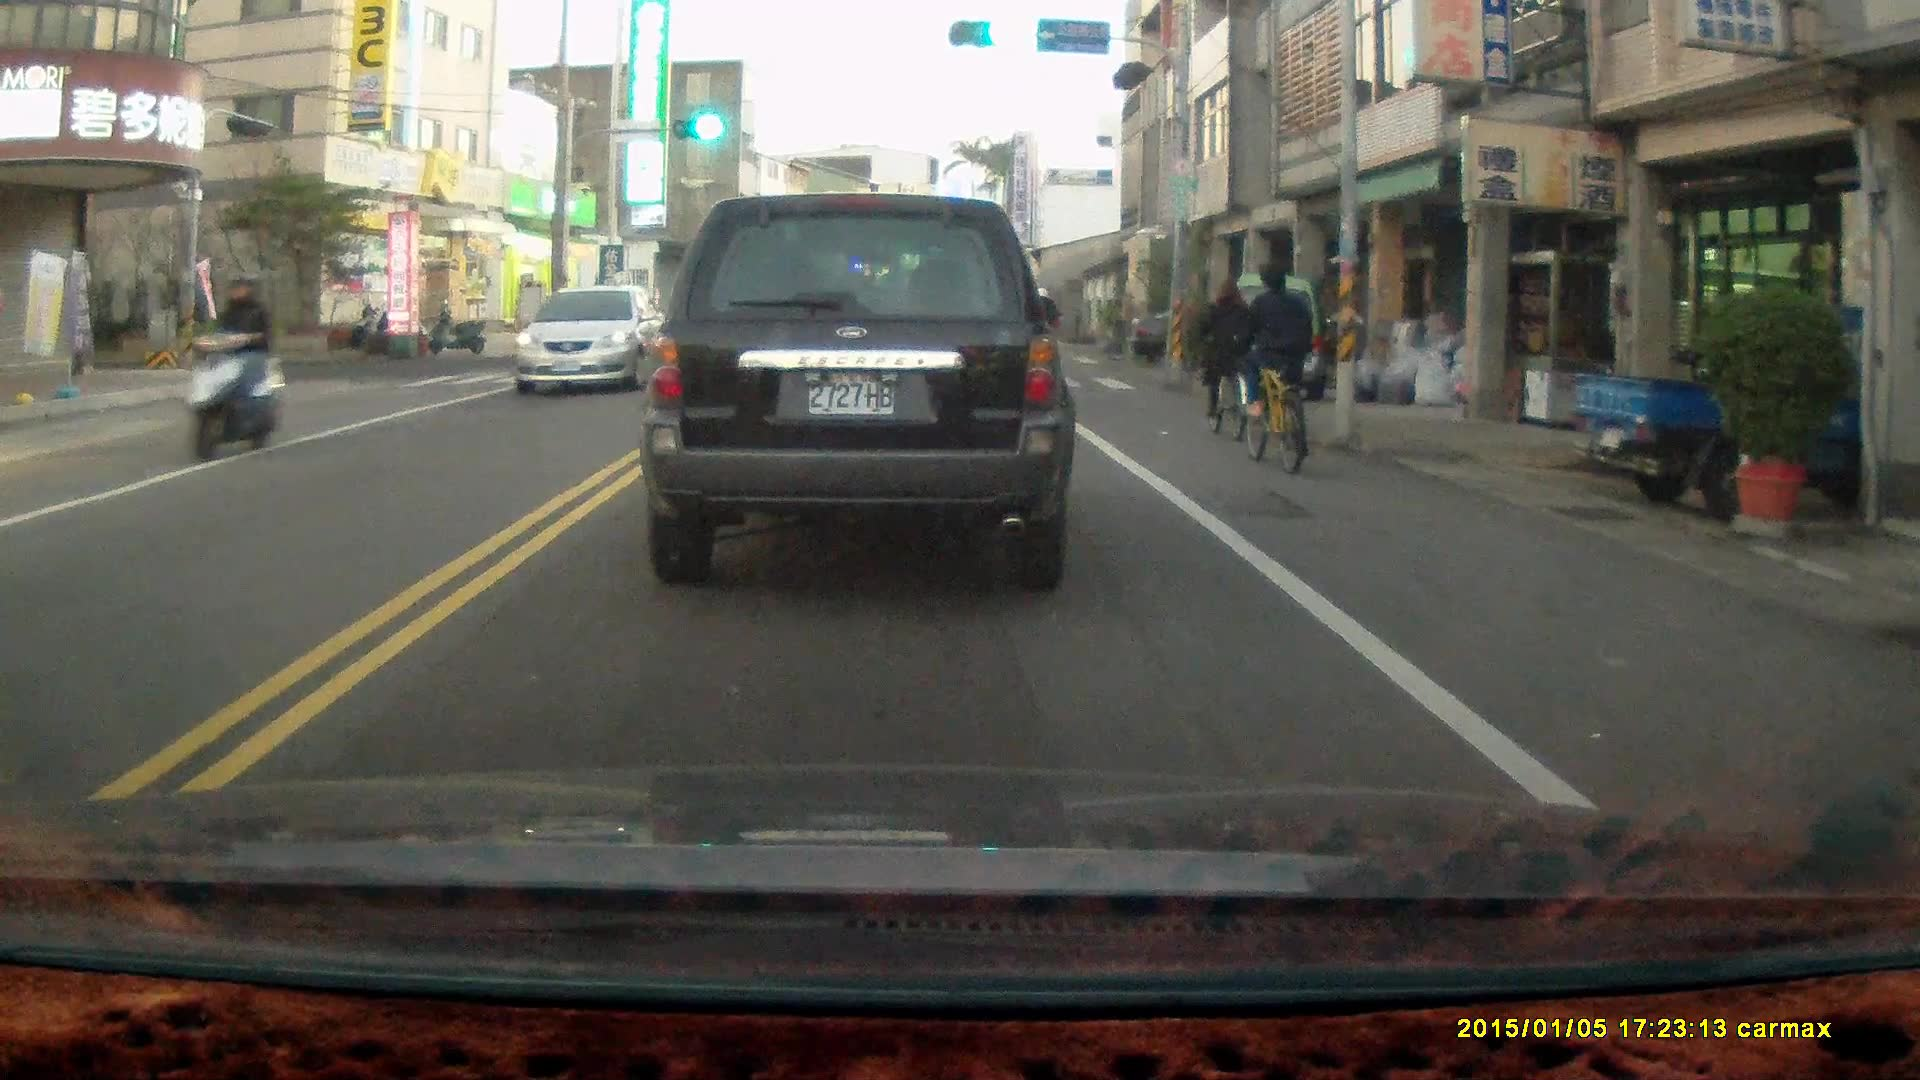rider: (181, 266, 286, 465), (1226, 262, 1314, 474), (1191, 277, 1260, 438)
vehicle: (637, 189, 1073, 590), (510, 284, 672, 396), (1219, 277, 1333, 395)
